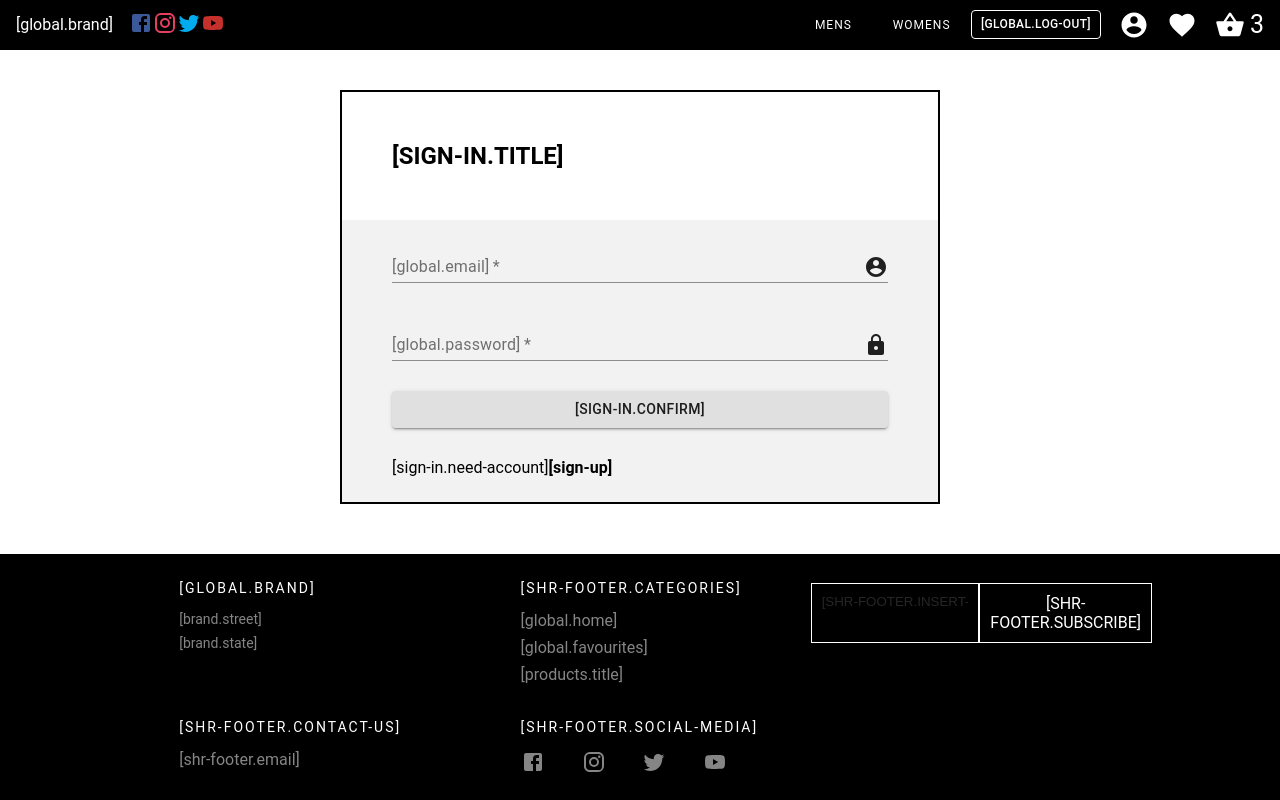
Scenario: SignIn › should login fails
This screenshot has width=1280, height=800.
Type "field@email.com" into the field labelled "[global.email] *" at (624,267), box [392, 251, 856, 283]
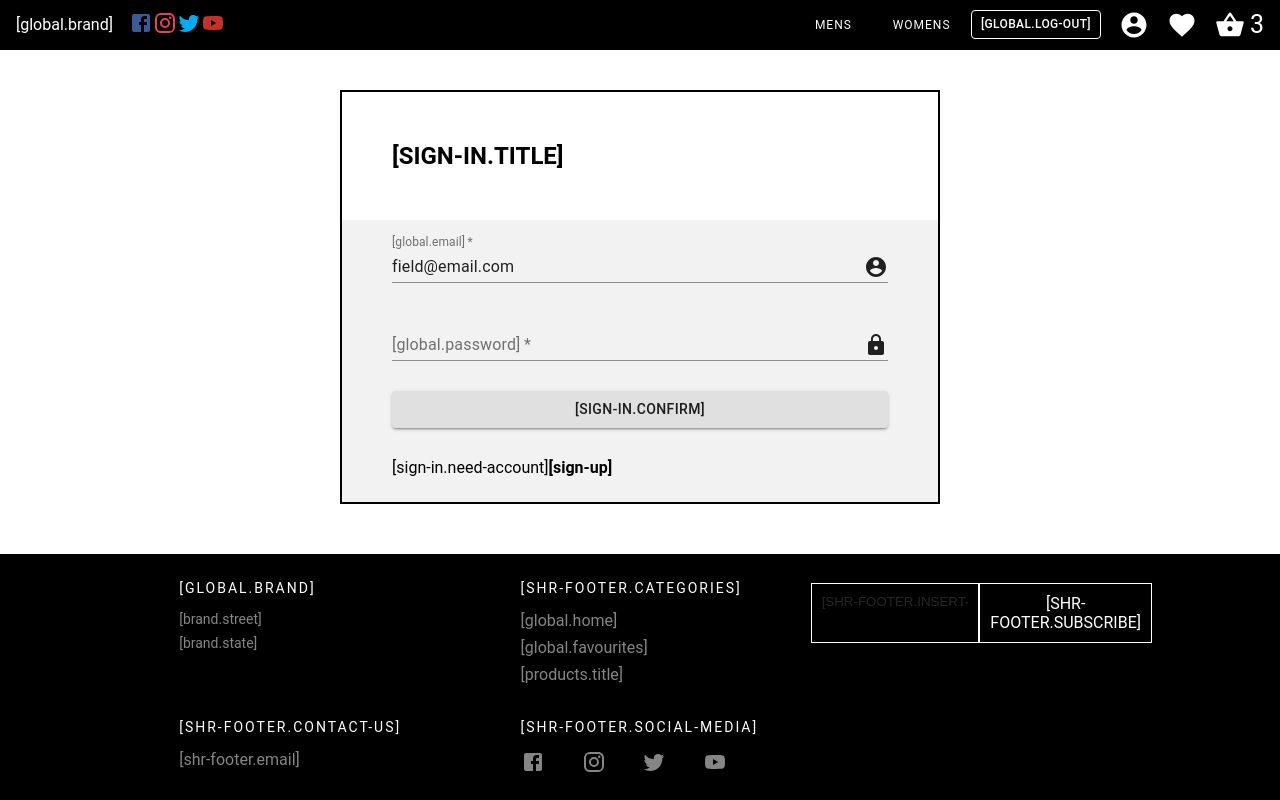
Type "password" into the password field labelled "[global.password] *" at (624,345), box [392, 329, 856, 361]
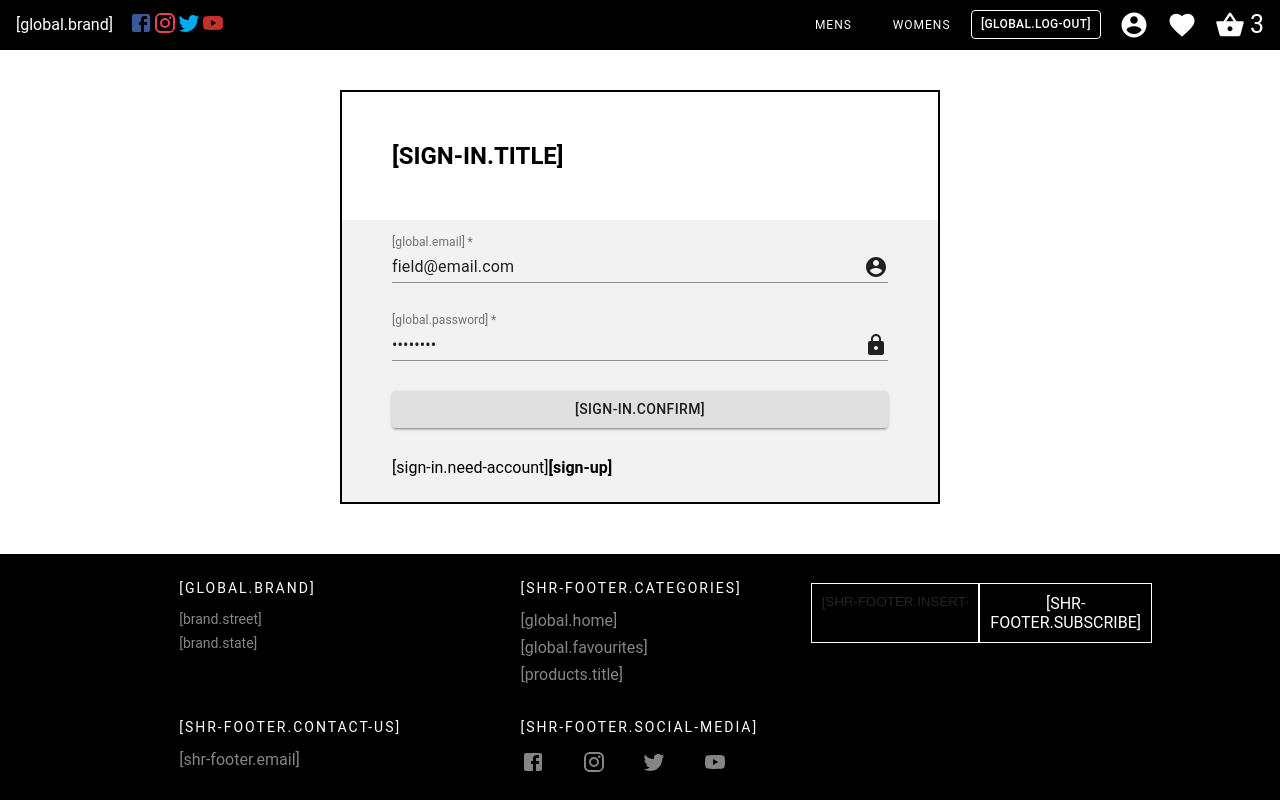
Click the button with class "sign-in__submit-button" at (640,409), box [392, 391, 888, 428]
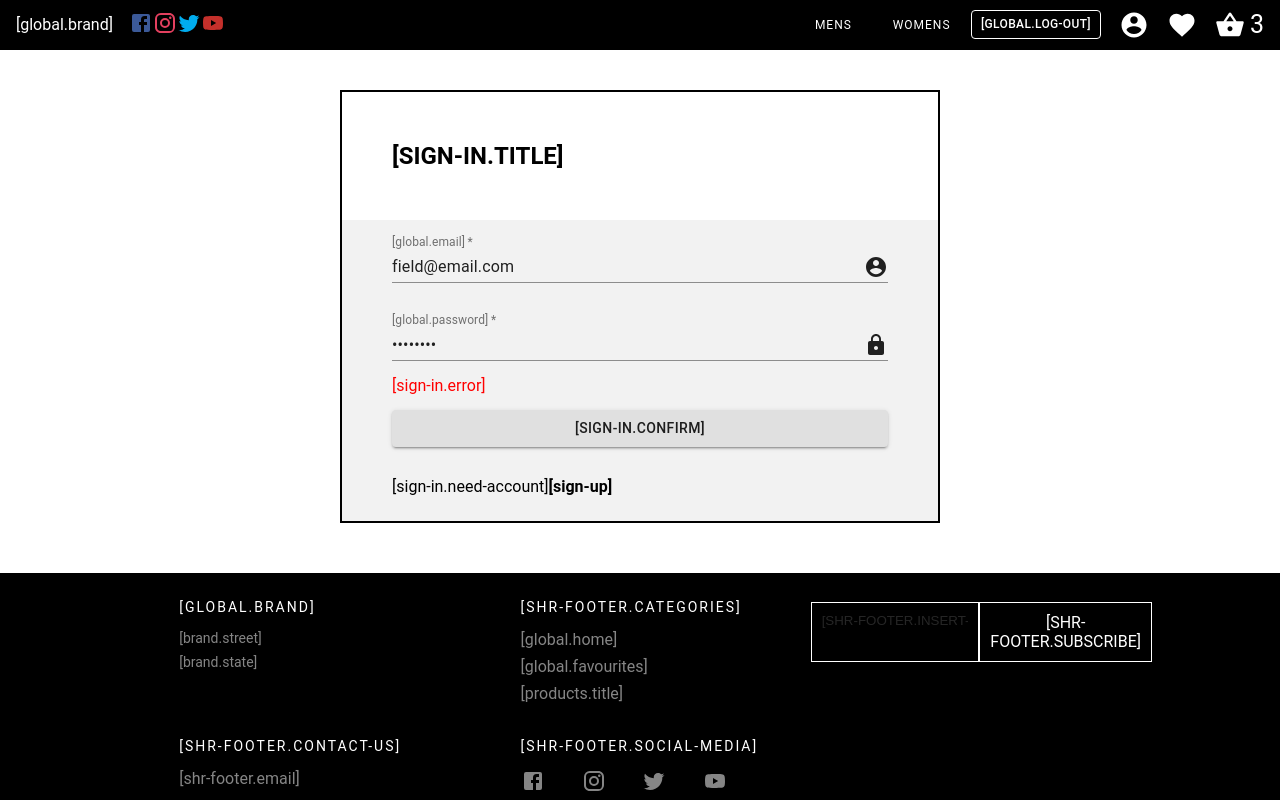
Expected: the text "[sign-in.error]" is shown, [392, 376, 486, 395]
